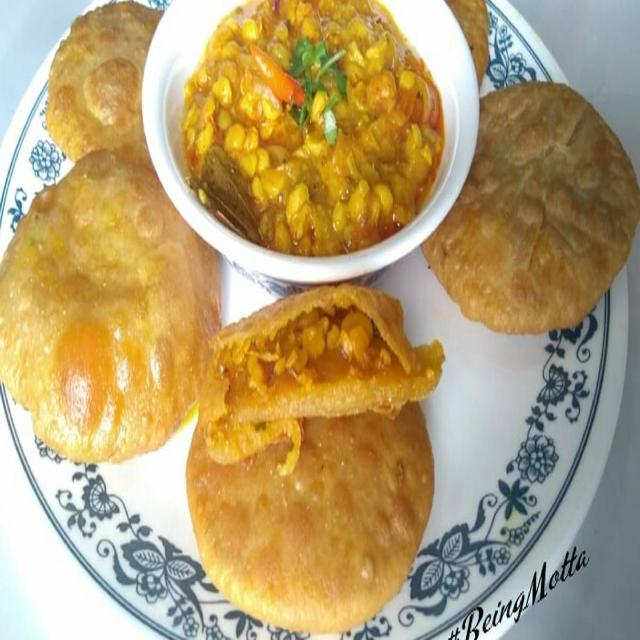CURRY: (183, 0, 447, 255)
